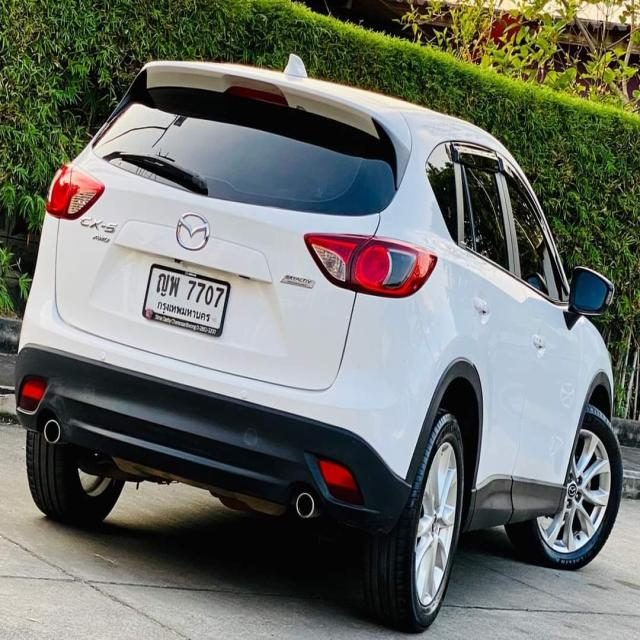license_plate: (142, 258, 232, 343)
